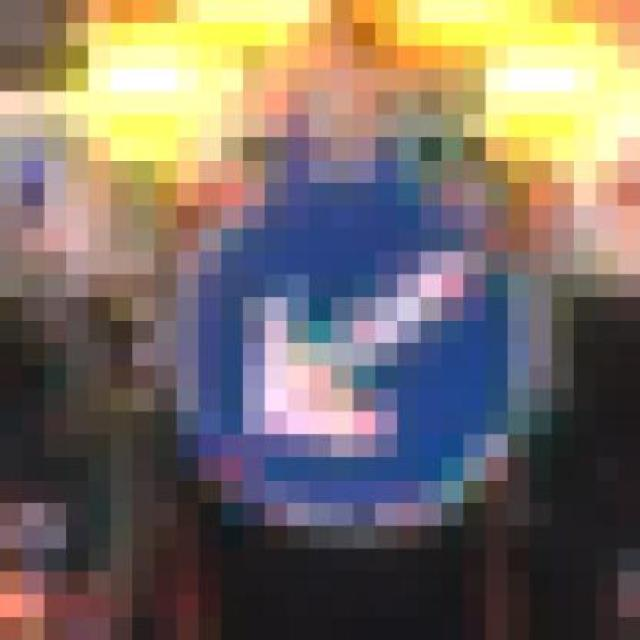Keep-Left: (132, 114, 552, 549)
